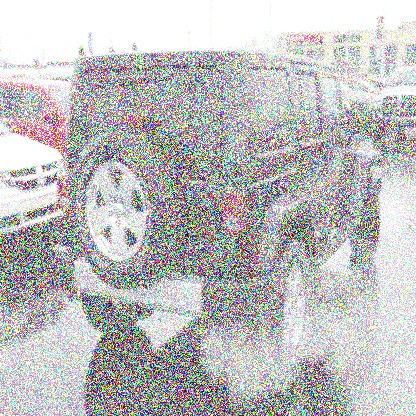Vehicle: (54, 48, 382, 372)
